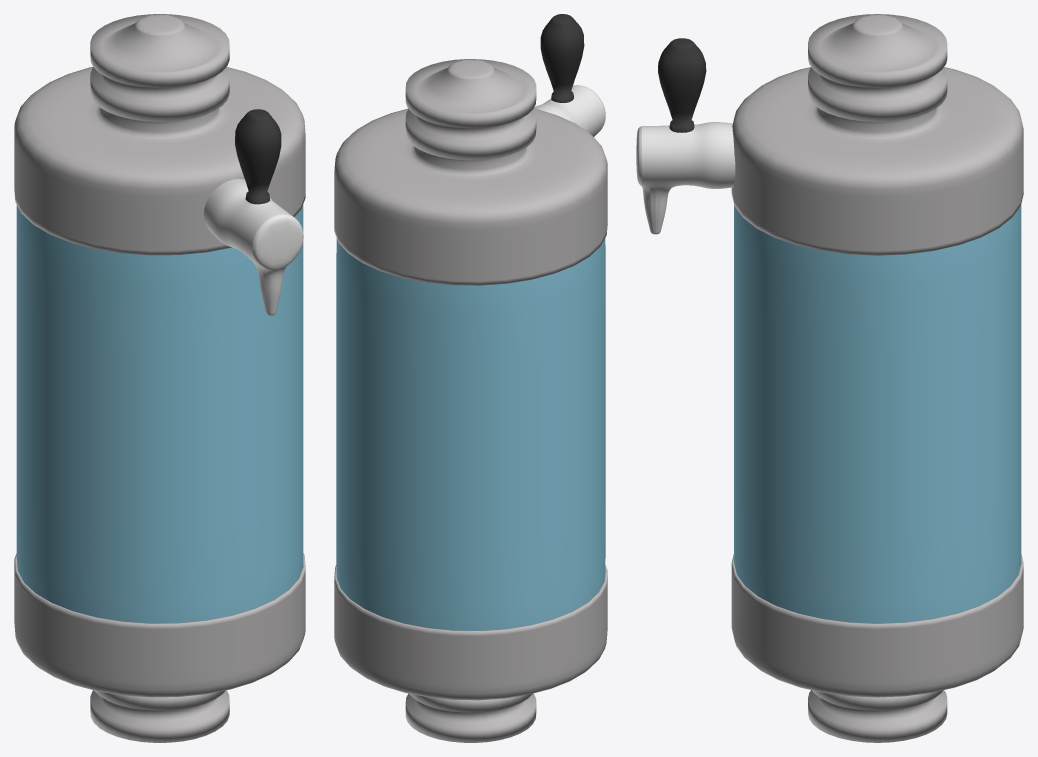
File: SM_BubbleTea_Machine.fbx
3 renders of one model, left to right at view 1: azimuth 30°, elevation 25°; view 2: azimuth 150°, elevation 25°; view 3: azimuth 270°, elevation 25°, orthographic. The views are drawn at different scales.
Visible parts, largest first — view 1: BTM_.004, BTM_Top.002, BTM_Bottom.002, BTM_.005, BTM_.008; view 2: BTM_.004, BTM_Top.002, BTM_Bottom.002, BTM_.008, BTM_.005; view 3: BTM_.004, BTM_Top.002, BTM_Bottom.002, BTM_.005, BTM_.008.
Part boxes in pixels (left/top/right/bottom): BTM_.004: left=16, top=205, right=303, bottom=623; BTM_Top.002: left=14, top=14, right=305, bottom=255; BTM_Bottom.002: left=14, top=553, right=305, bottom=742; BTM_.005: left=203, top=178, right=303, bottom=315; BTM_.008: left=235, top=109, right=281, bottom=204; BTM_.004: left=336, top=238, right=605, bottom=630; BTM_Top.002: left=334, top=59, right=607, bottom=285; BTM_Bottom.002: left=334, top=565, right=607, bottom=742; BTM_.008: left=540, top=14, right=584, bottom=102; BTM_.005: left=533, top=85, right=605, bottom=136; BTM_.004: left=734, top=205, right=1021, bottom=623; BTM_Top.002: left=731, top=14, right=1023, bottom=255; BTM_Bottom.002: left=731, top=554, right=1023, bottom=742; BTM_.005: left=636, top=122, right=735, bottom=234; BTM_.008: left=658, top=38, right=706, bottom=132.
Bounding box in the file's own units: 9.57 × 25.72 × 12.7.
